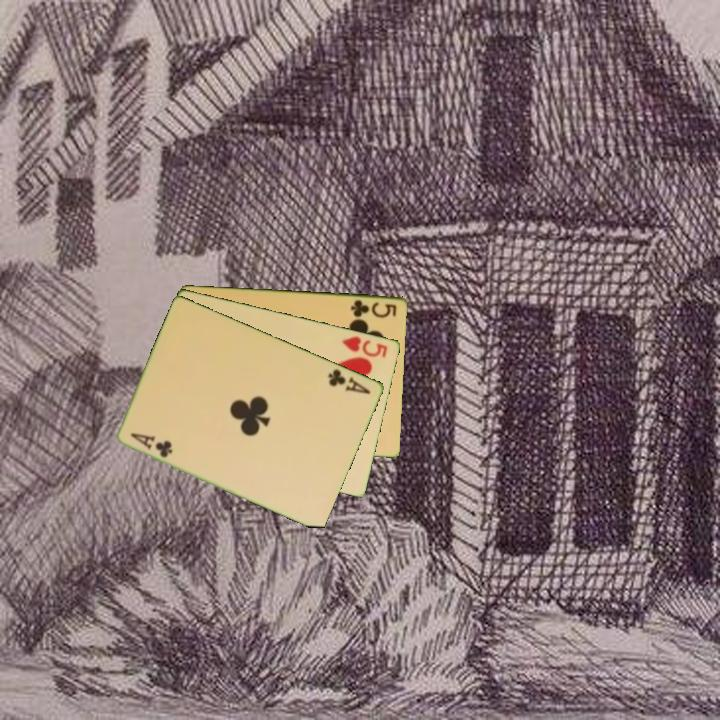5c: (348, 296, 400, 320)
5h: (339, 332, 391, 360)
Ac: (325, 365, 374, 397), (127, 429, 176, 461)
